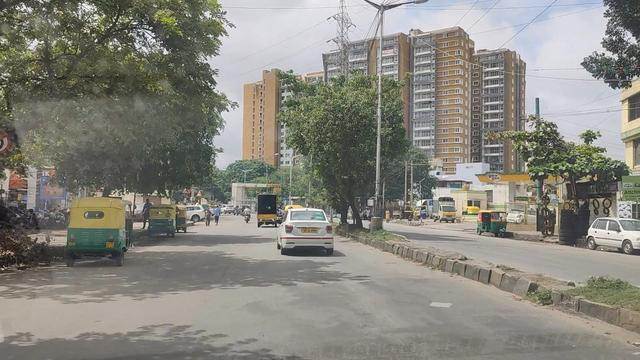LMV: (70, 199, 134, 262), (273, 201, 335, 258)
RoadDamages: (399, 293, 466, 320)
